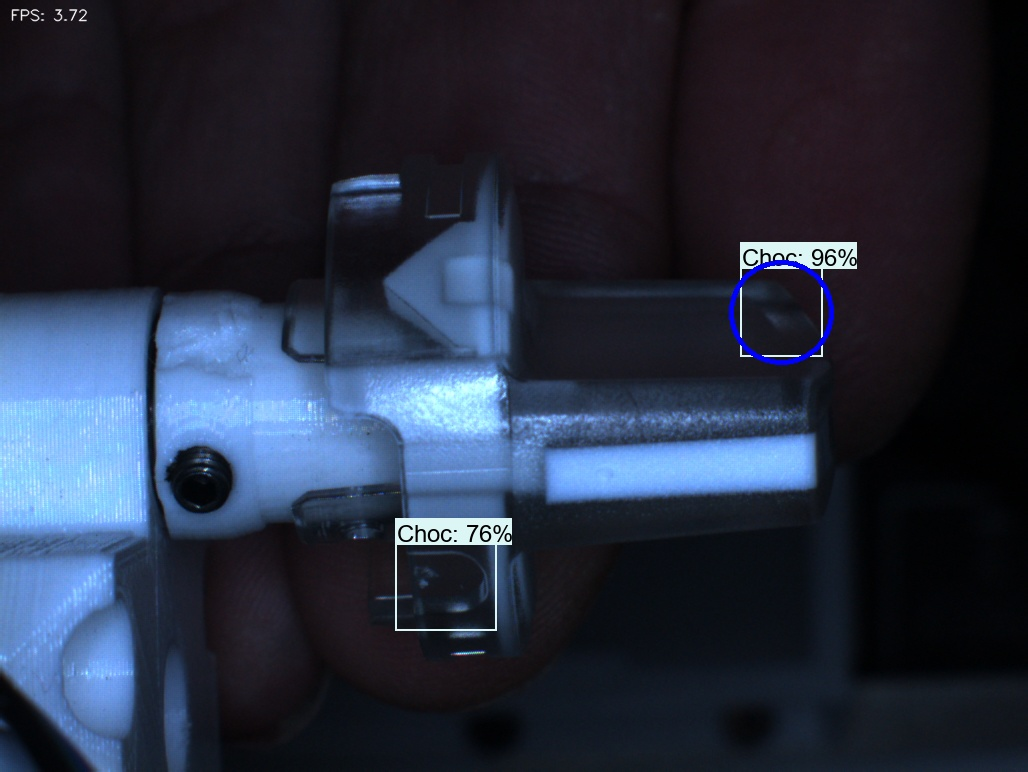DentOk: (358, 241, 433, 342)
